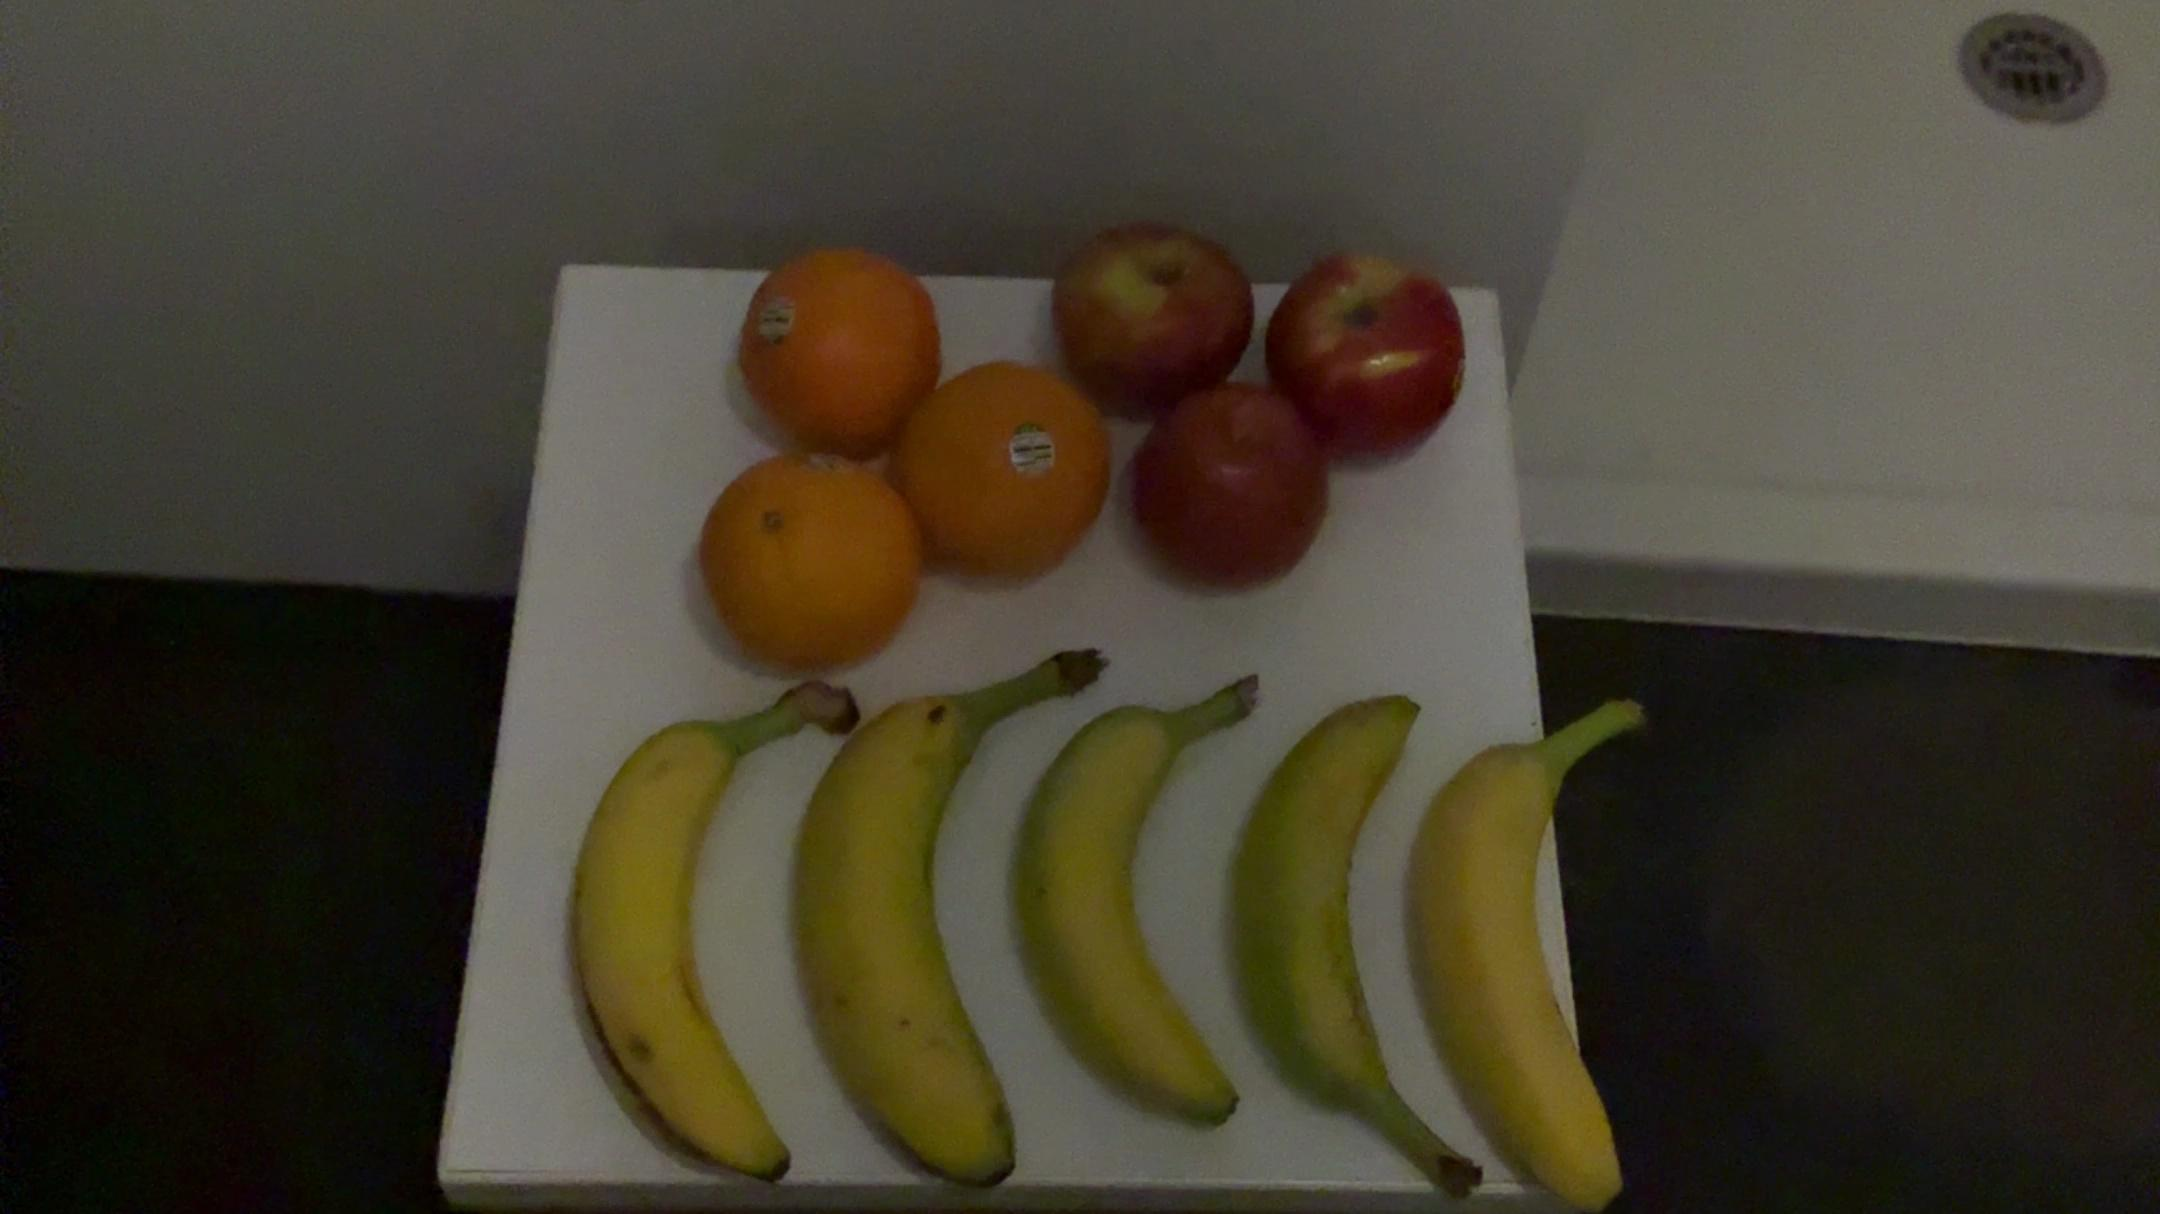apple: (1043, 205, 1252, 427), (1261, 234, 1460, 465), (1122, 381, 1320, 591)
banana: (794, 646, 1084, 1201), (564, 672, 857, 1193), (1228, 692, 1492, 1210), (1411, 686, 1669, 1214), (1003, 663, 1262, 1165)
orange: (691, 442, 924, 681), (905, 361, 1110, 597), (733, 234, 945, 456)
